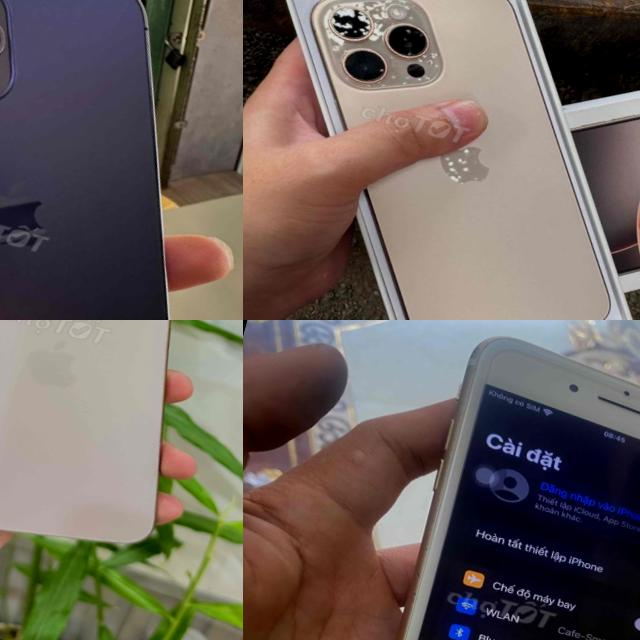gen_14: (0, 0, 243, 320)
gen_16: (243, 0, 640, 320), (0, 320, 170, 540)
gen_7_8: (338, 320, 640, 640)
scratch: (380, 531, 436, 640)
